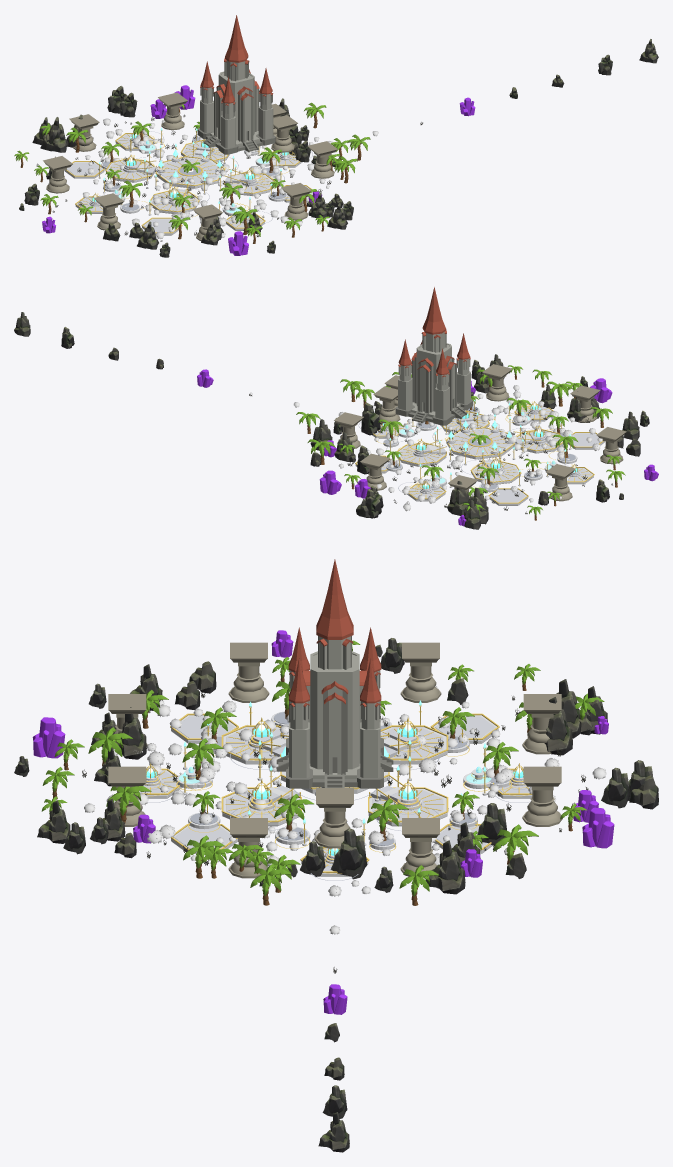
Rendered from praca_v8.fbx.
3 renders of one model, top to bottom at view 1: azimuth 30°, elevation 25°; view 2: azimuth 150°, elevation 25°; view 3: azimuth 270°, elevation 25°, orthographic. The views are drawn at different scales.
Parts seen in each view (by area): view 1: Walls__KIT_Templo, MARBLE2__Centro_Piso, Marble__ColunaPraca3, Marble__ColunaPraca1, Marble__ColunaPraca7, Marble__ColunaPraca6, Marble__KIT_Coluna, Marble__ColunaPraca4, Marble__ColunaPraca2, Rock__KIT_Rocha4.002, Marble__ColunaPraca5, Atlas.001__KIT_Cristal.004 (+1 smaller); view 2: Walls__KIT_Templo, MARBLE2__Centro_Piso, Marble__ColunaPraca6, Marble__ColunaPraca4, Marble__ColunaPraca3, Marble__KIT_Coluna, Marble__ColunaPraca1, Marble__ColunaPraca5, Marble__ColunaPraca0, Rock__KIT_Rocha4.008, Rock__KIT_Rocha3.007, Atlas.001__KIT_Cristal.005 (+4 smaller); view 3: Walls__KIT_Templo, Marble__ColunaPraca1, Marble__ColunaPraca4, Marble__ColunaPraca3, Marble__KIT_Coluna, Marble__ColunaPraca0, Marble__ColunaPraca2, Marble__ColunaPraca7, Rock__KIT_Rocha4.010, Rock__KIT_Rocha3.007, Marble__ColunaPraca6, Atlas.001__KIT_Cristal.005 (+5 smaller).
Boxes of the visible parts, x1=… form: Walls__KIT_Templo: x1=197, y1=15, x2=275, y2=154; MARBLE2__Centro_Piso: x1=159, y1=158, x2=218, y2=184; Marble__ColunaPraca3: x1=43, y1=156, x2=72, y2=193; Marble__ColunaPraca1: x1=158, y1=92, x2=187, y2=130; Marble__ColunaPraca7: x1=307, y1=141, x2=337, y2=178; Marble__ColunaPraca6: x1=281, y1=183, x2=311, y2=220; Marble__KIT_Coluna: x1=271, y1=115, x2=297, y2=152; Marble__ColunaPraca4: x1=94, y1=193, x2=124, y2=230; Marble__ColunaPraca2: x1=69, y1=114, x2=99, y2=151; Rock__KIT_Rocha4.002: x1=40, y1=117, x2=68, y2=152; Marble__ColunaPraca5: x1=192, y1=204, x2=222, y2=240; Atlas.001__KIT_Cristal.004: x1=228, y1=231, x2=248, y2=255; Walls__KIT_Templo: x1=395, y1=287, x2=473, y2=425; MARBLE2__Centro_Piso: x1=452, y1=429, x2=510, y2=455; Marble__ColunaPraca6: x1=482, y1=364, x2=512, y2=401; Marble__ColunaPraca4: x1=596, y1=427, x2=626, y2=464; Marble__ColunaPraca3: x1=546, y1=464, x2=575, y2=501; Marble__KIT_Coluna: x1=373, y1=386, x2=400, y2=423; Marble__ColunaPraca1: x1=360, y1=453, x2=389, y2=490; Marble__ColunaPraca5: x1=570, y1=385, x2=600, y2=422; Marble__ColunaPraca0: x1=334, y1=412, x2=363, y2=448; Rock__KIT_Rocha4.008: x1=447, y1=481, x2=468, y2=515; Rock__KIT_Rocha3.007: x1=361, y1=402, x2=380, y2=435; Atlas.001__KIT_Cristal.005: x1=319, y1=470, x2=341, y2=494; Walls__KIT_Templo: x1=276, y1=559, x2=393, y2=788; Marble__ColunaPraca1: x1=522, y1=766, x2=562, y2=826; Marble__ColunaPraca4: x1=228, y1=642, x2=269, y2=702; Marble__ColunaPraca3: x1=400, y1=642, x2=441, y2=702; Marble__KIT_Coluna: x1=314, y1=788, x2=353, y2=848; Marble__ColunaPraca0: x1=400, y1=818, x2=439, y2=878; Marble__ColunaPraca2: x1=522, y1=694, x2=561, y2=754; Marble__ColunaPraca7: x1=228, y1=818, x2=267, y2=878; Rock__KIT_Rocha4.010: x1=425, y1=840, x2=465, y2=894; Rock__KIT_Rocha3.007: x1=330, y1=828, x2=367, y2=879; Marble__ColunaPraca6: x1=108, y1=766, x2=146, y2=826; Atlas.001__KIT_Cristal.005: x1=582, y1=807, x2=614, y2=848.
Size of the model in its own units: 545 by 131 by 287.
Materials: 19 (4 with a texture image).
